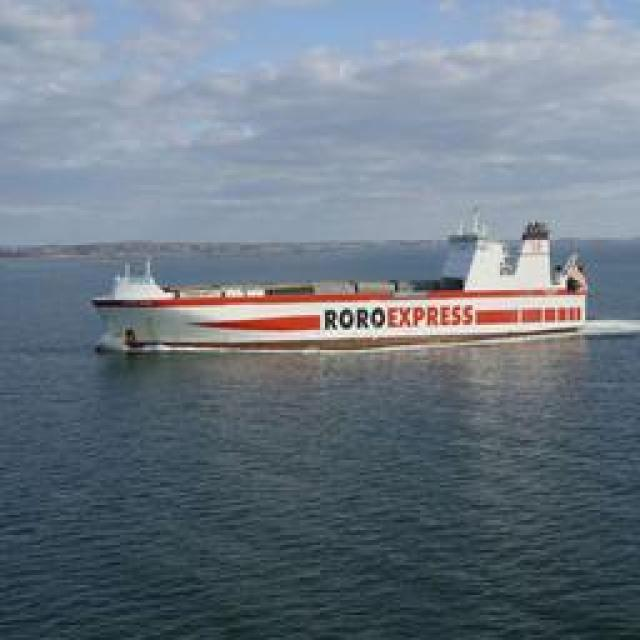CIV_Ship: (96, 221, 594, 354)
